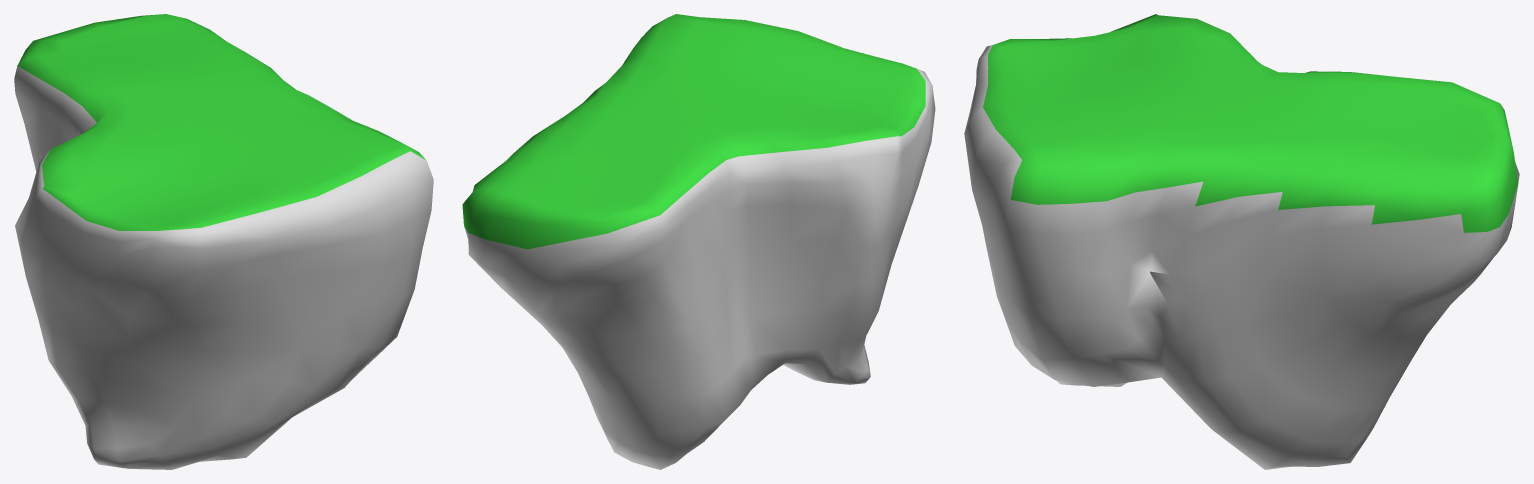
The model's file is platform_end_l_02.fbx.
3 renders of one model, left to right at view 1: azimuth 30°, elevation 25°; view 2: azimuth 150°, elevation 25°; view 3: azimuth 270°, elevation 25°, orthographic. The views are drawn at different scales.
Parts seen in each view (by area): view 1: platform_central_04.004; view 2: platform_central_04.004; view 3: platform_central_04.004.
Part boxes in pixels (left/top/right/bottom): platform_central_04.004: left=14, top=14, right=433, bottom=469; platform_central_04.004: left=462, top=14, right=935, bottom=469; platform_central_04.004: left=964, top=14, right=1519, bottom=469.
Size of the model in its own units: 19.19 by 18.94 by 26.48.
